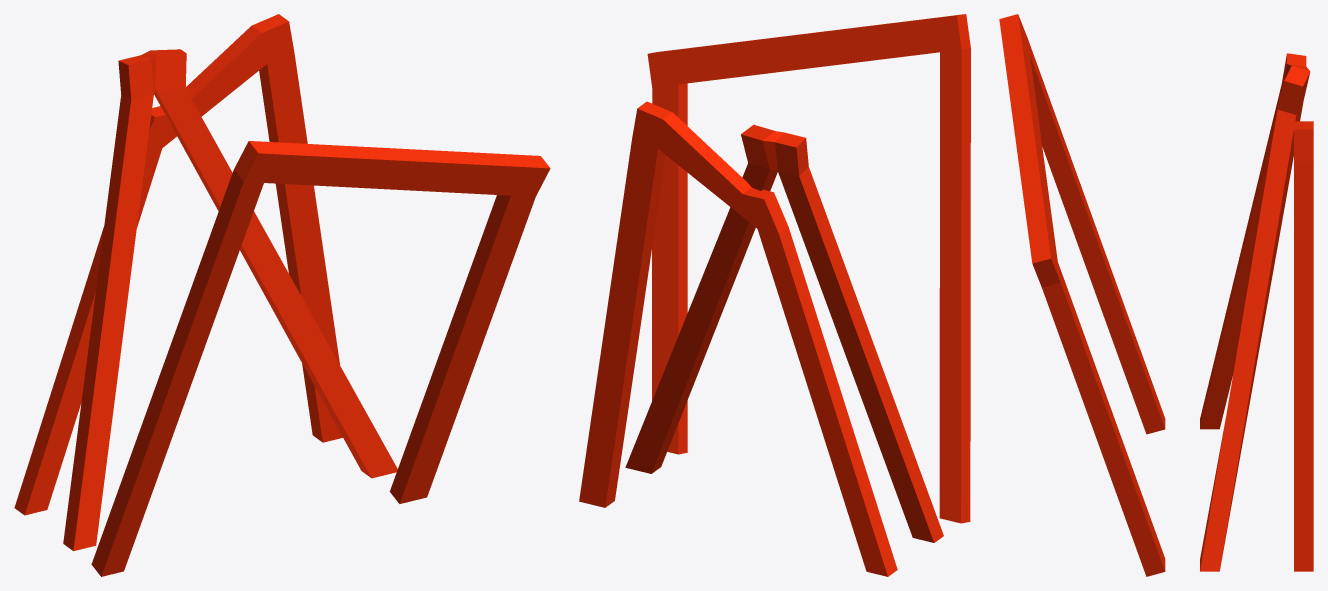
File: edificio6.obj
The picture shows the model from 3 angles, left to right: view 1: azimuth 30°, elevation 25°; view 2: azimuth 150°, elevation 25°; view 3: azimuth 270°, elevation 25°; orthographic projection. The views are drawn at different scales.
Parts seen in each view (by area): view 1: ciudad_pCylinder32polySurface43, ciudad_pCylinder32polySurface42, ciudad_pCylinder32polySurface27; view 2: ciudad_pCylinder32polySurface43, ciudad_pCylinder32polySurface27, ciudad_pCylinder32polySurface42; view 3: ciudad_pCylinder32polySurface43, ciudad_pCylinder32polySurface42, ciudad_pCylinder32polySurface27.
Part boxes in pixels (<box>): ciudad_pCylinder32polySurface43: <box>91,141,550,576</box>; ciudad_pCylinder32polySurface42: <box>63,49,397,550</box>; ciudad_pCylinder32polySurface27: <box>14,14,342,515</box>; ciudad_pCylinder32polySurface43: <box>647,14,970,523</box>; ciudad_pCylinder32polySurface27: <box>579,101,897,576</box>; ciudad_pCylinder32polySurface42: <box>625,124,943,542</box>; ciudad_pCylinder32polySurface43: <box>999,14,1165,576</box>; ciudad_pCylinder32polySurface42: <box>1200,53,1310,571</box>; ciudad_pCylinder32polySurface27: <box>1294,121,1313,571</box>.
Bounding box in the file's own units: 20.03 × 22.83 × 14.52.
